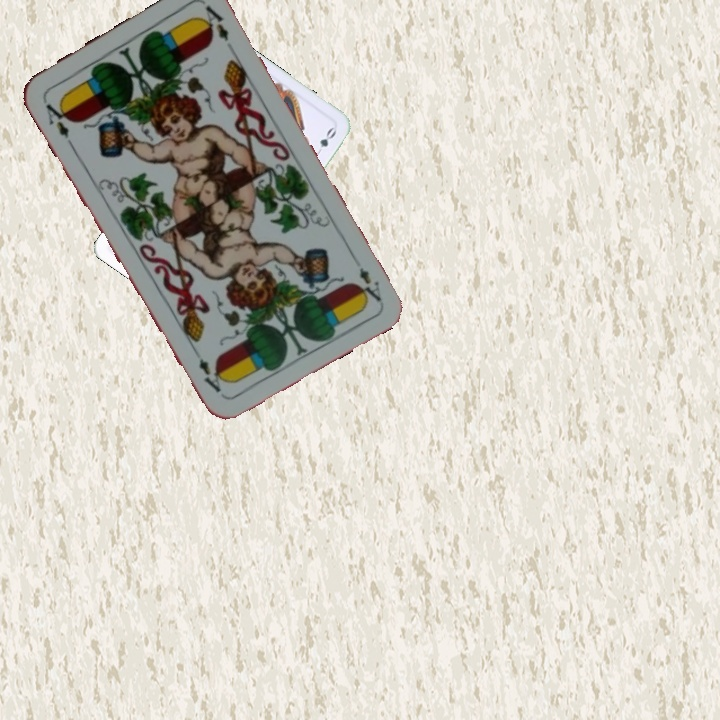EA: (348, 251, 384, 305), (39, 95, 74, 140)
